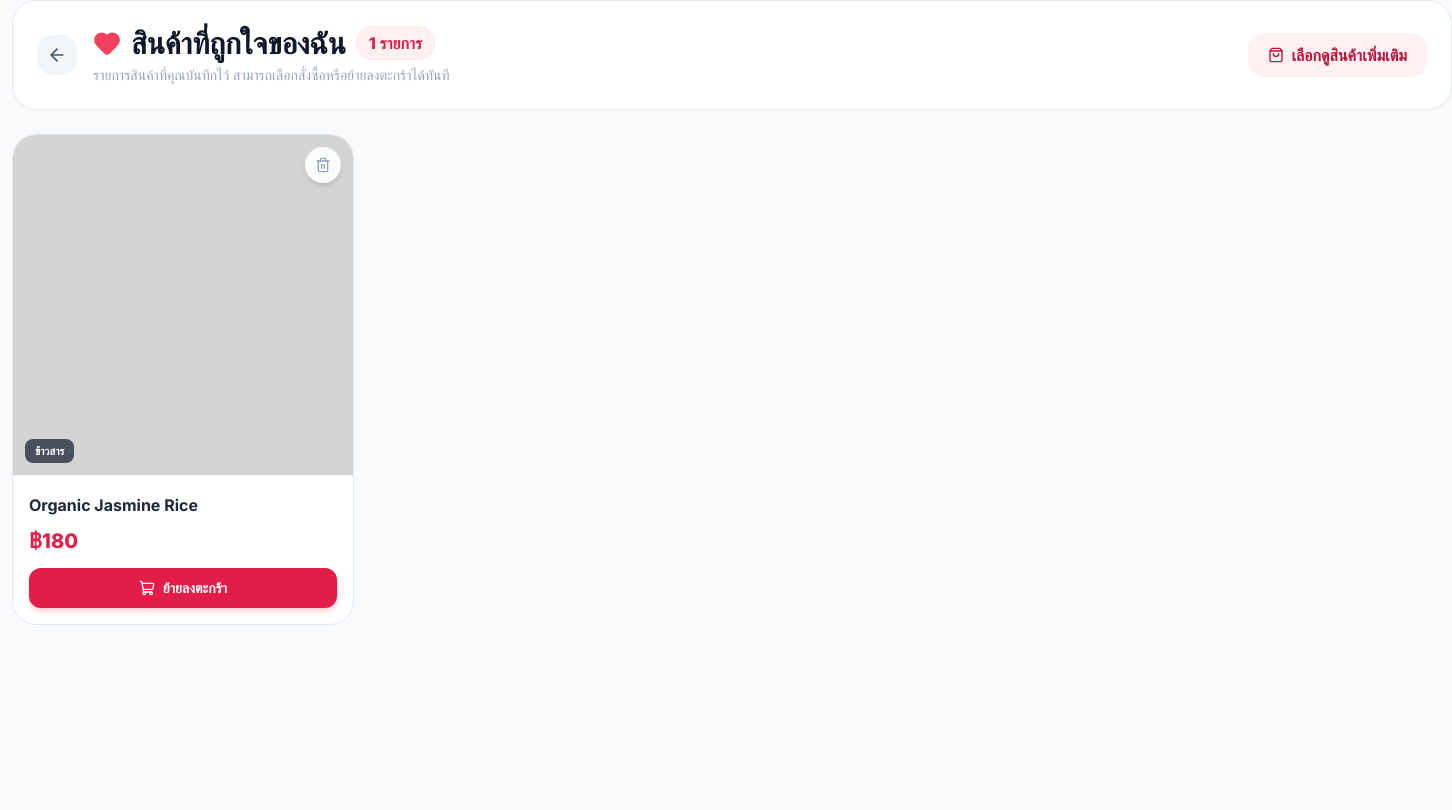
Test: WishlistPage component › removes item from wishlist when clicking the trash button
Step 1. Click the button titled "ลบออกจากรายการถูกใจ" → (323, 165), box [305,147,341,183]
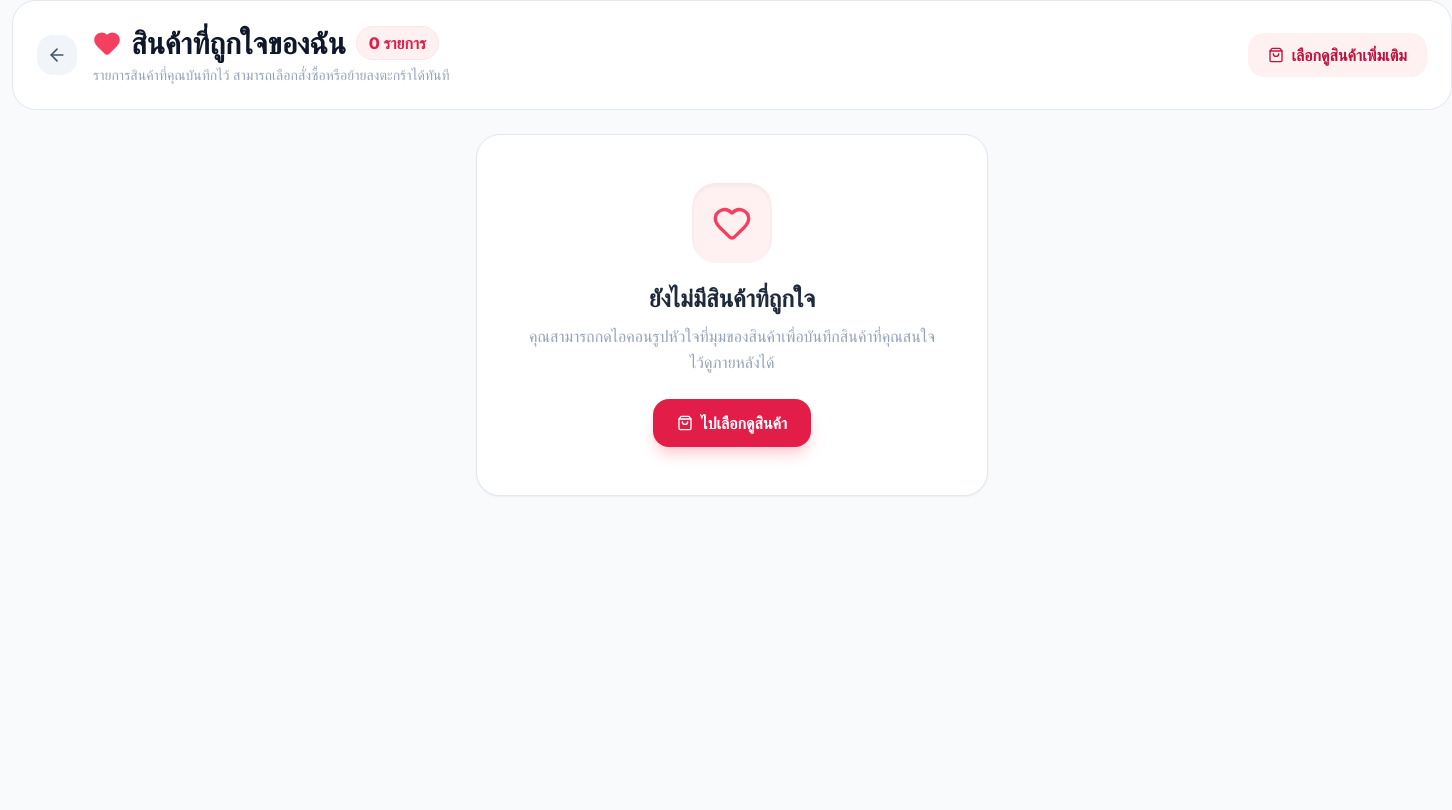
Result: the heading "ยังไม่มีสินค้าที่ถูกใจ" is shown at [649,284,815,313]
